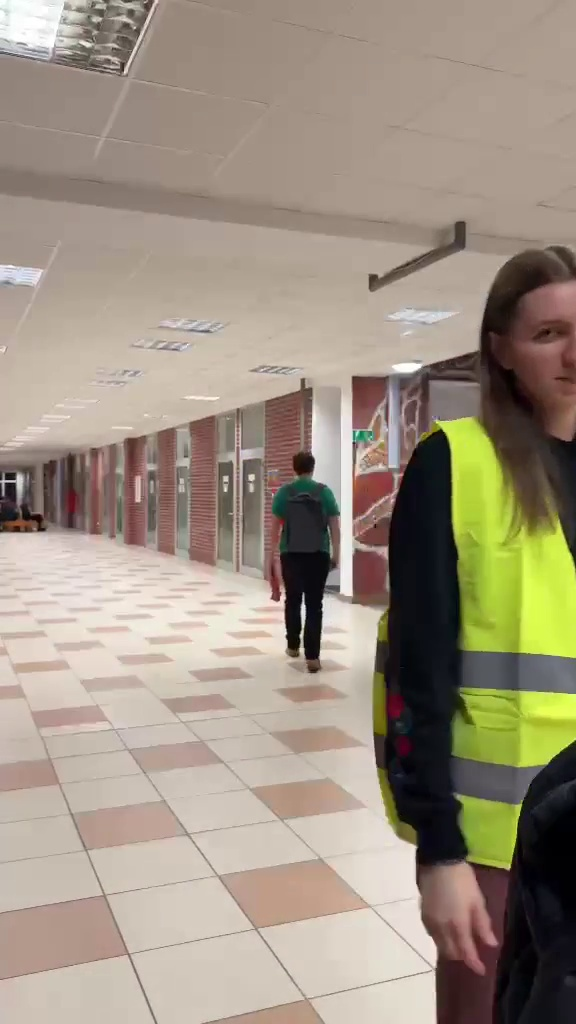no vest: (246, 442, 353, 673)
vest: (396, 236, 576, 1003)
